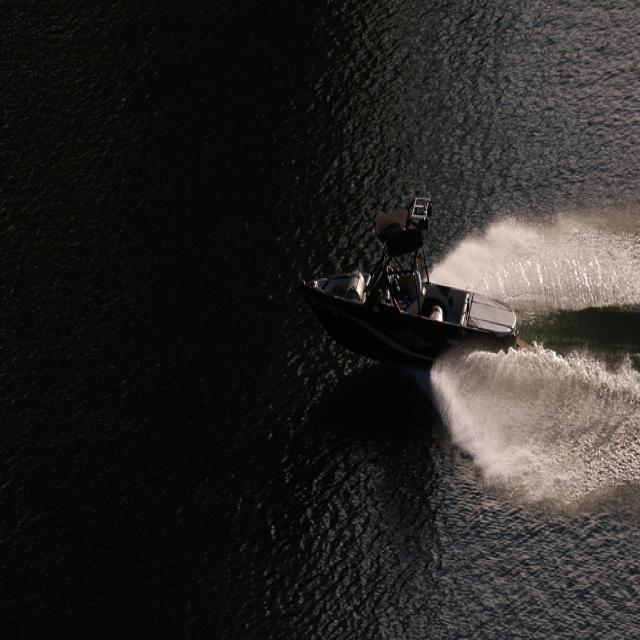Boat: (288, 191, 532, 392)
